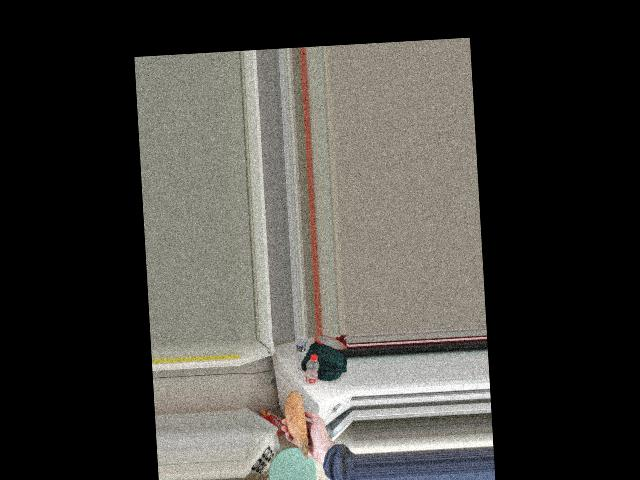sweet_potato: (281, 392, 305, 467)
